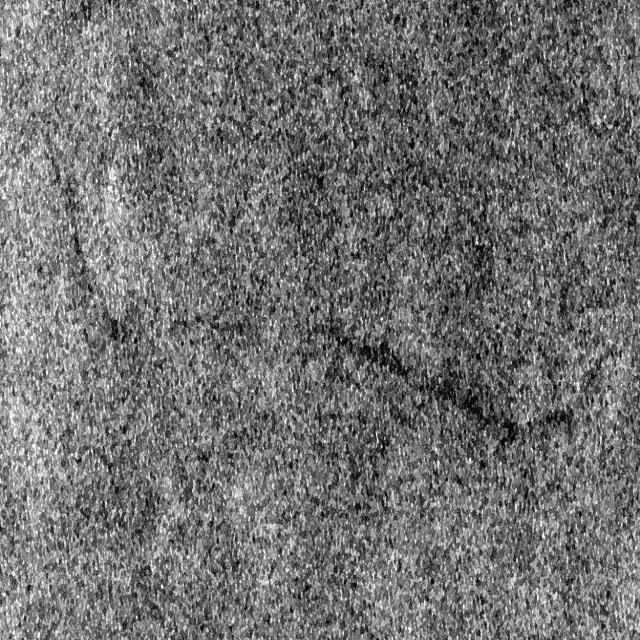oil-spill: (305, 294, 578, 478), (133, 265, 265, 369), (52, 152, 122, 341)
